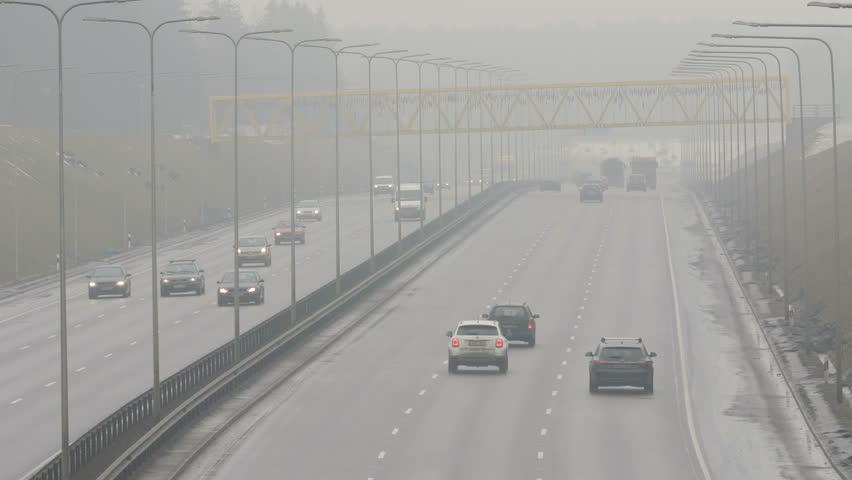bus: (628, 154, 658, 191), (599, 155, 626, 188)
car: (585, 335, 658, 396), (445, 318, 511, 375), (480, 300, 541, 348), (216, 270, 266, 308), (160, 259, 207, 297), (84, 265, 133, 299), (392, 182, 428, 222), (233, 234, 273, 267), (271, 219, 307, 246), (294, 199, 323, 222), (578, 183, 604, 204), (372, 176, 396, 195), (625, 173, 648, 192), (581, 176, 608, 192), (538, 176, 561, 192), (435, 177, 451, 191)
